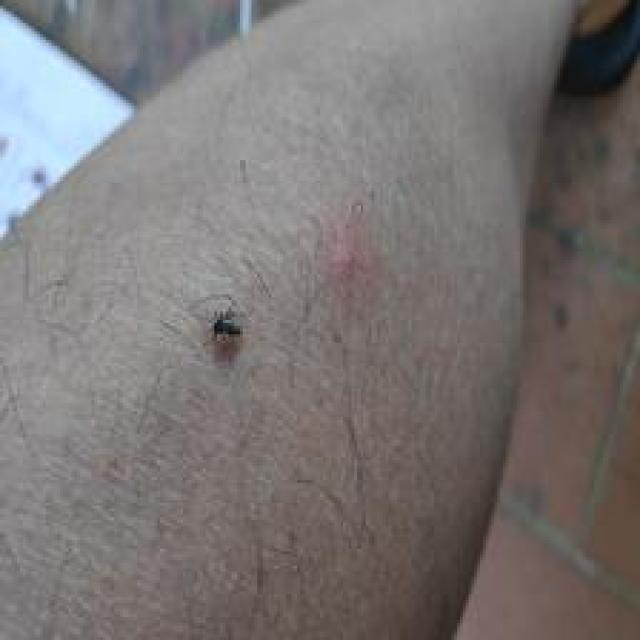Aedes albopictus: (208, 306, 243, 343)
